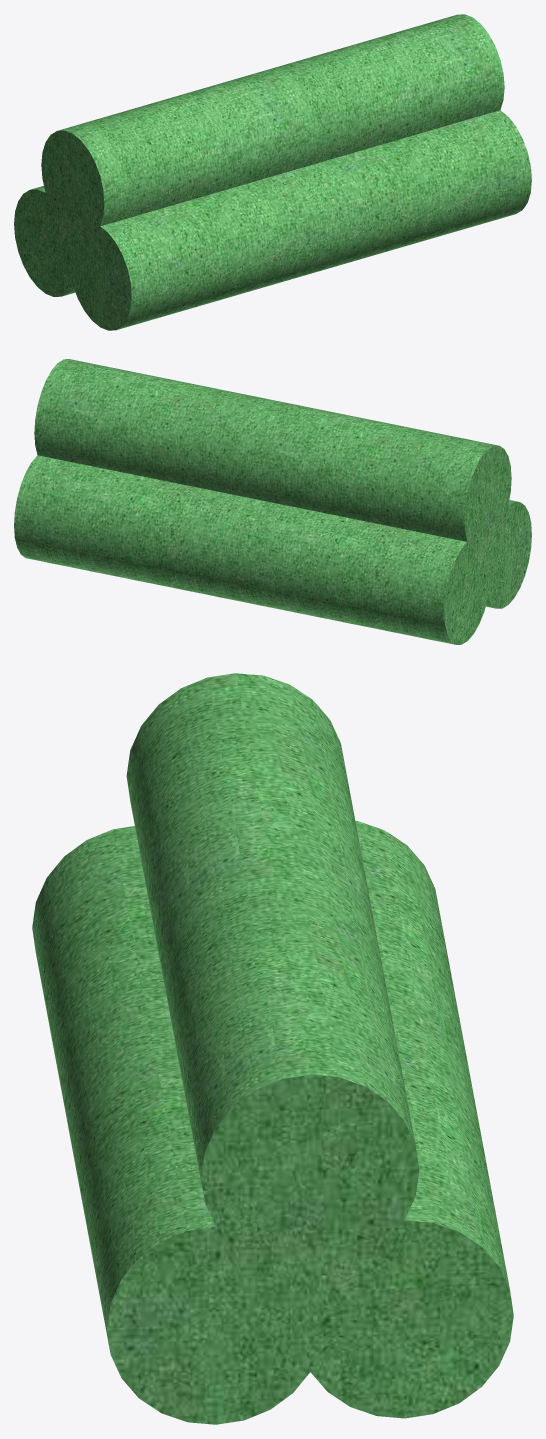
File: original-16.obj
3 views of the same model, one above another, from view 1: azimuth 30°, elevation 25°; view 2: azimuth 150°, elevation 25°; view 3: azimuth 270°, elevation 25° (orthographic). The views are drawn at different scales.
Visible parts, largest first — view 1: #ID242; view 2: #ID242; view 3: #ID242.
Part boxes in pixels (box(x1,y1,x2,y2)): #ID242: box(14, 14, 531, 330); #ID242: box(14, 359, 531, 644); #ID242: box(32, 673, 513, 1424).
Size of the model in its own units: 0.1341 by 0.0523 by 0.0658.
